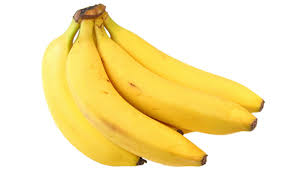banana: (72, 37, 209, 177), (95, 31, 259, 131), (43, 34, 92, 177)
